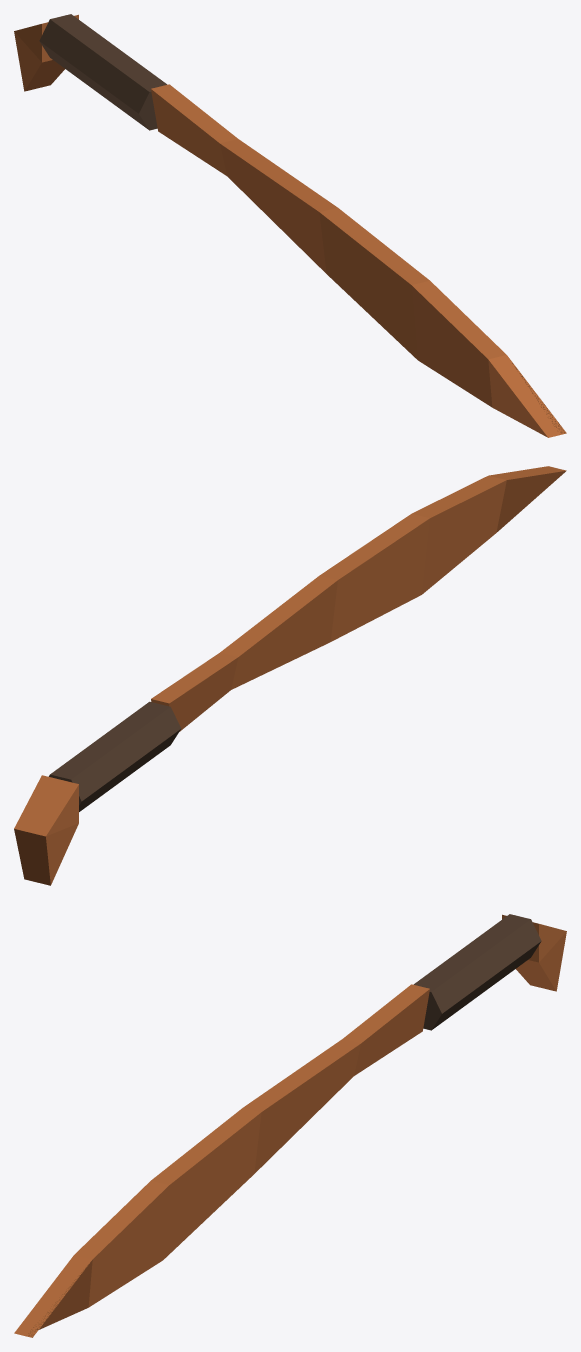
File: Falcata.fbx
The picture shows the model from 3 angles, top to bottom: view 1: azimuth 30°, elevation 25°; view 2: azimuth 150°, elevation 25°; view 3: azimuth 330°, elevation 25°; orthographic projection.
Visible parts, largest first — view 1: Falcata; view 2: Falcata; view 3: Falcata.
Part boxes in pixels (bbox=[...]): Falcata: bbox=[14, 14, 566, 437]; Falcata: bbox=[14, 466, 566, 885]; Falcata: bbox=[14, 914, 566, 1337].
Bounding box in the file's own units: 0.032 × 0.066 × 0.6889.
